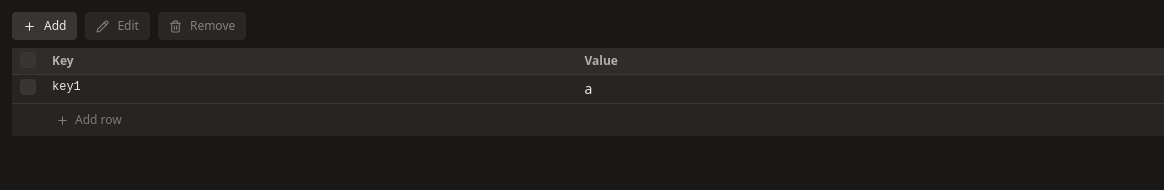
it: KeyValueEditor › removes a newly created row on Escape
Click the button with test id "kv-add" at point(45, 26), box left=12, top=12, right=77, bottom=40
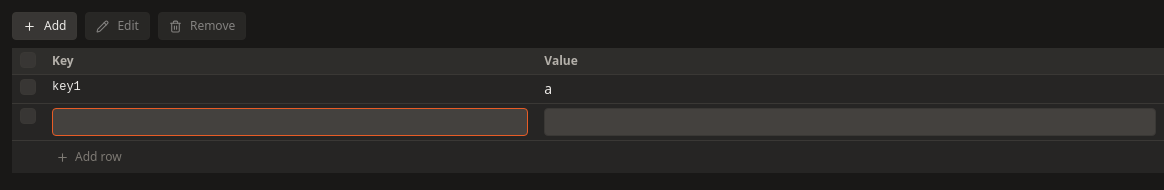
Press Escape
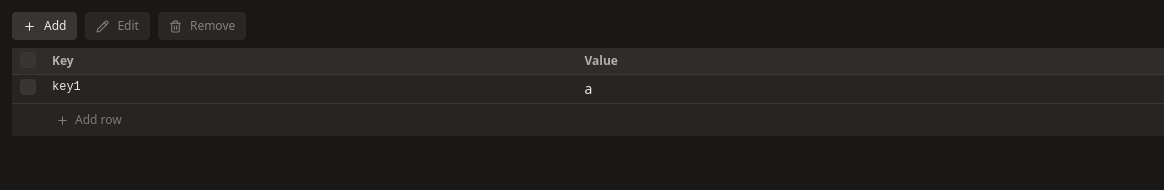
Check: the row with test id "kv-row-" is gone
